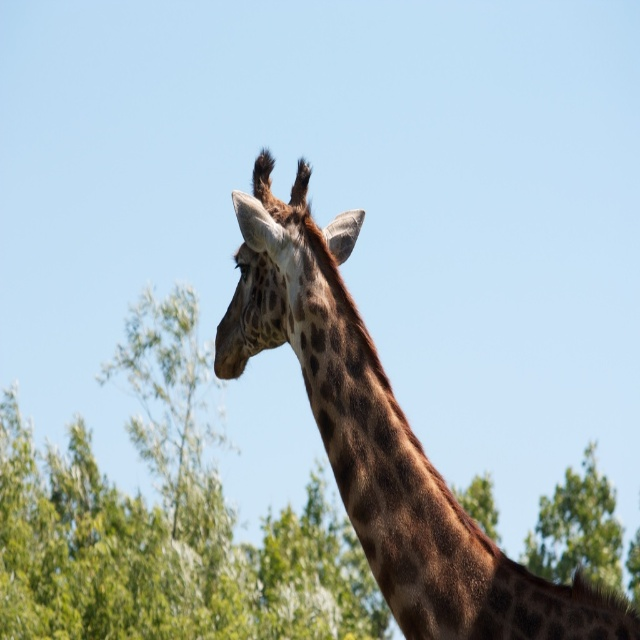Giraffe: (208, 143, 638, 639)
